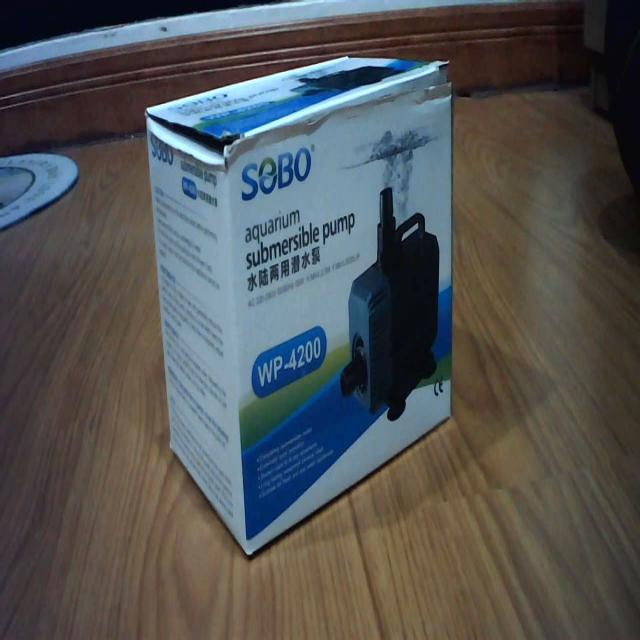SOBO_WP_4200: (135, 27, 471, 570)
